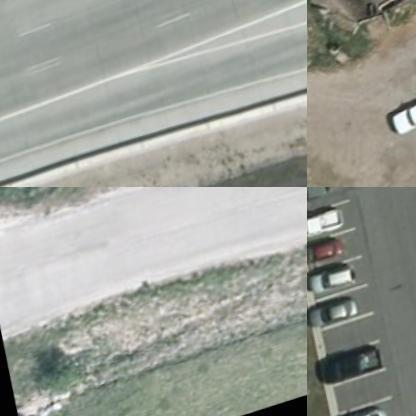car: (324, 349, 380, 389), (307, 291, 361, 332), (307, 263, 357, 304), (385, 86, 415, 142), (307, 233, 347, 274), (307, 203, 343, 244), (332, 405, 389, 415)
